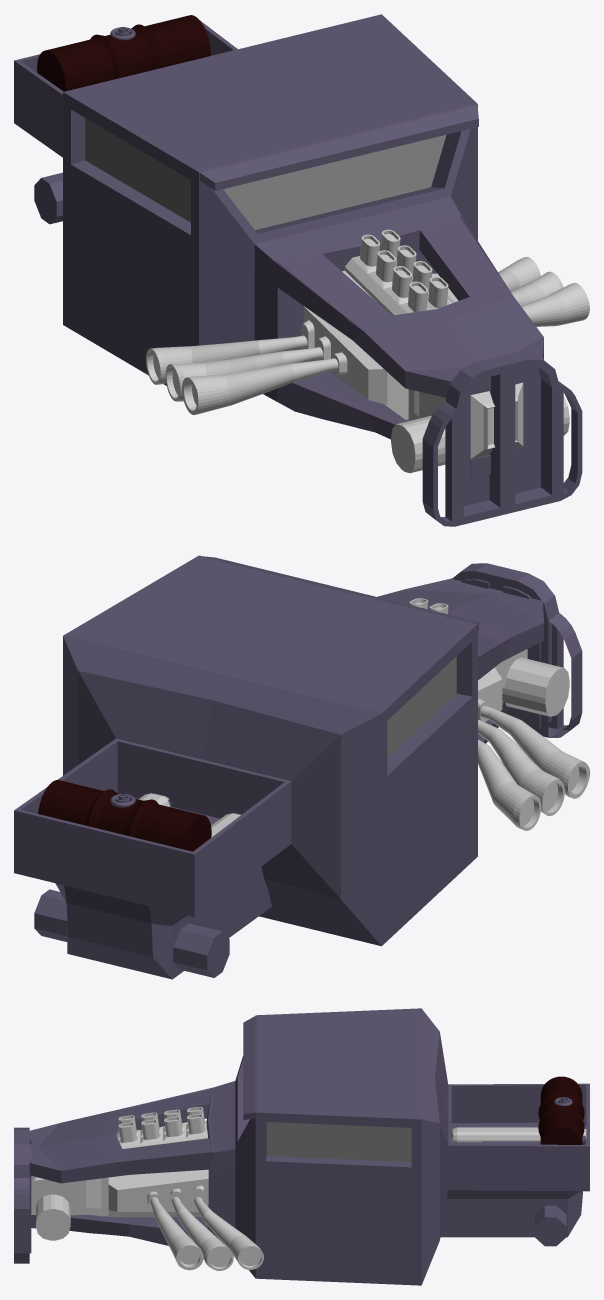
Rendered from hot-rod-body.obj.
3 views of the same model, one above another, from view 1: azimuth 30°, elevation 25°; view 2: azimuth 150°, elevation 25°; view 3: azimuth 270°, elevation 25° (orthographic). The views are drawn at different scales.
Visible parts, largest first — view 1: body; view 2: body; view 3: body.
Part boxes in pixels (bbox=[...]): body: bbox=[14, 14, 589, 526]; body: bbox=[14, 555, 589, 979]; body: bbox=[14, 1008, 589, 1285].
Bounding box in the file's own units: 2.18 × 1.34 × 3.89.
